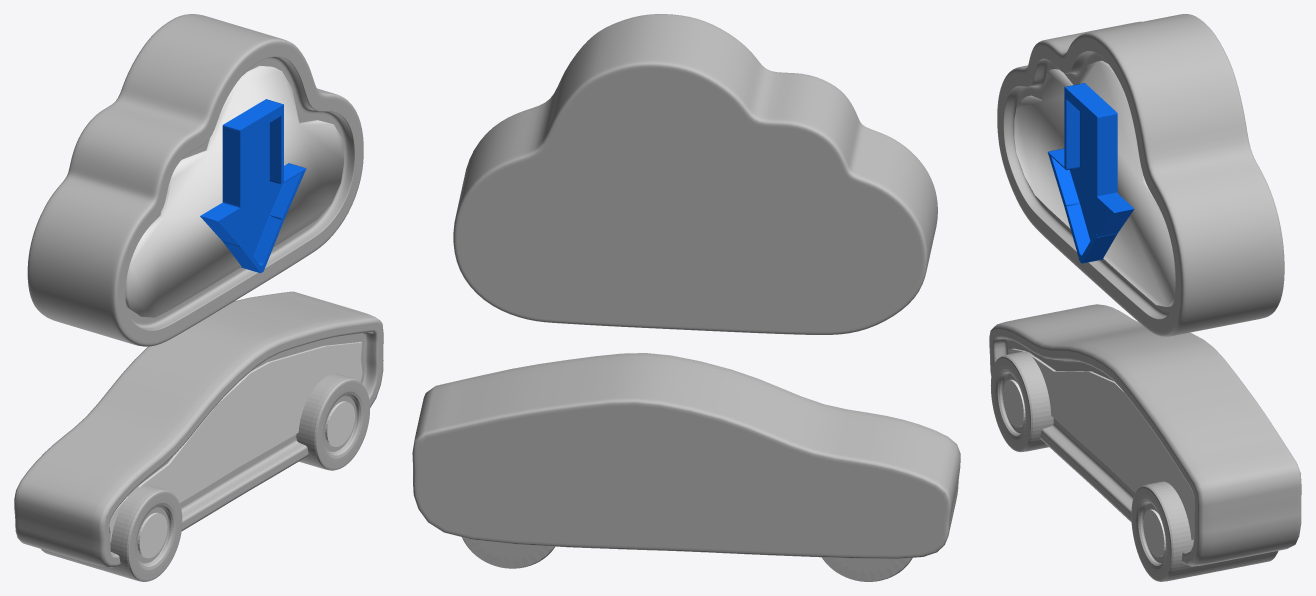
File: camp.gltf
3 views of the same model, side by side, from view 1: azimuth 30°, elevation 25°; view 2: azimuth 150°, elevation 25°; view 3: azimuth 270°, elevation 25° (orthographic). The views are drawn at different scales.
Parts seen in each view (by area): view 1: Vert.007, Vert, Vert.003, Vert.001, Cube.002, Vert.002; view 2: Vert, Vert.007; view 3: Vert, Vert.007, Vert.003, Vert.001, Cube.002, Vert.002.
Part boxes in pixels (x1=…): Vert.007: x1=14, y1=291, x2=383, y2=581; Vert: x1=27, y1=14, x2=363, y2=346; Vert.003: x1=125, y1=65, x2=343, y2=317; Vert.001: x1=109, y1=341, x2=362, y2=541; Cube.002: x1=200, y1=99, x2=306, y2=273; Vert.002: x1=137, y1=401, x2=355, y2=558; Vert: x1=453, y1=14, x2=937, y2=334; Vert.007: x1=412, y1=353, x2=960, y2=581; Vert: x1=997, y1=14, x2=1284, y2=336; Vert.007: x1=989, y1=304, x2=1301, y2=581; Vert.003: x1=1014, y1=60, x2=1175, y2=306; Vert.001: x1=1008, y1=348, x2=1194, y2=539; Cube.002: x1=1047, y1=83, x2=1134, y2=263; Vert.002: x1=1002, y1=379, x2=1165, y2=557.
Size of the model in its own units: 1.83 by 1.93 by 1.13.
